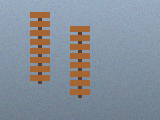insulator: (28, 10, 52, 85), (68, 24, 92, 99)
